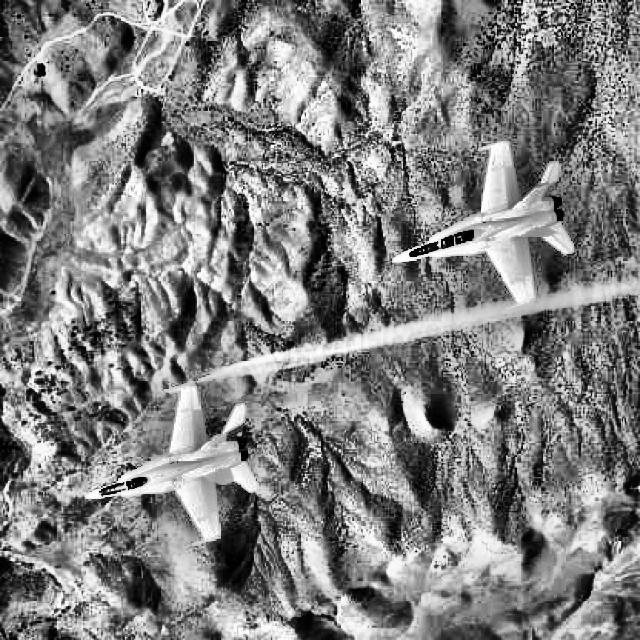F18: (392, 139, 574, 313), (84, 380, 258, 545)
